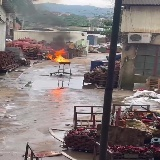fire: (45, 48, 70, 62)
